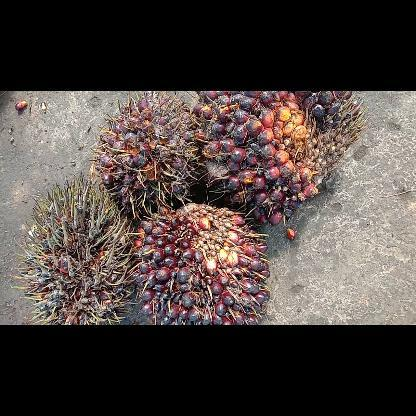Kurang masak: (132, 206, 268, 324), (88, 91, 198, 217)
TBS abnormal: (18, 176, 134, 324)
TBS masak: (193, 92, 368, 226)
